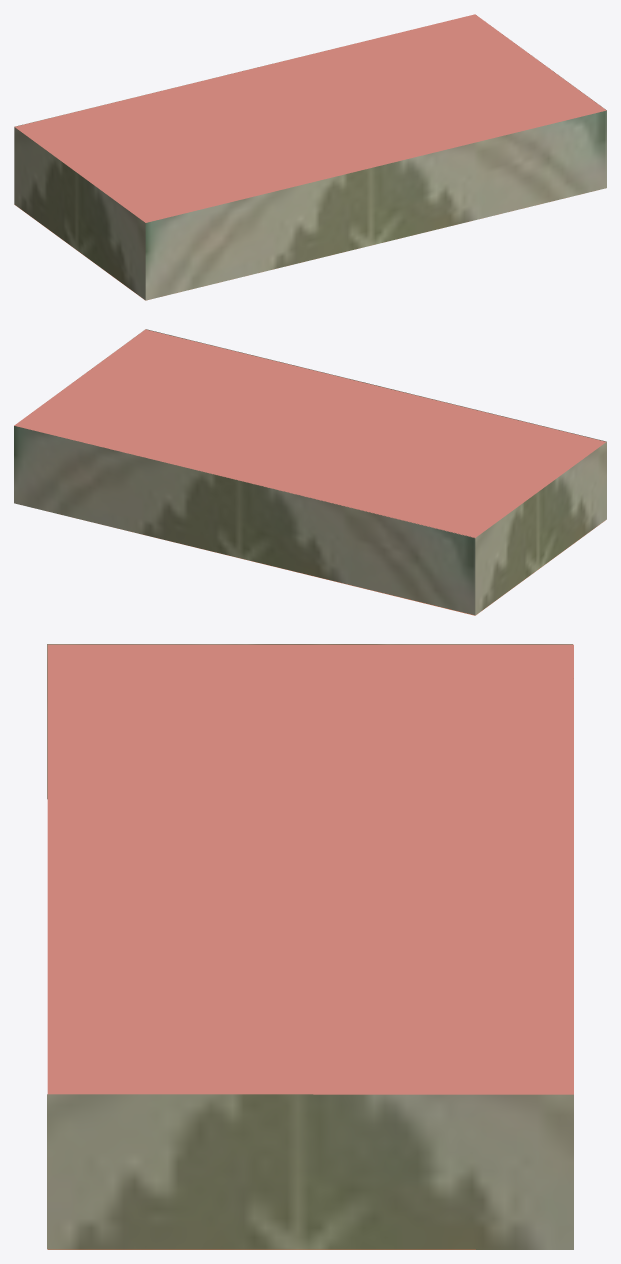
The model's file is room.fbx.
The picture shows the model from 3 angles, top to bottom: view 1: azimuth 30°, elevation 25°; view 2: azimuth 150°, elevation 25°; view 3: azimuth 270°, elevation 25°; orthographic projection. The views are drawn at different scales.
Parts seen in each view (by area): view 1: Plane.003, Plane; view 2: Plane.003, Plane; view 3: Plane.003, Plane.
Part boxes in pixels (left/top/right/bottom): Plane.003: left=14, top=14, right=606, bottom=222; Plane: left=14, top=63, right=606, bottom=300; Plane.003: left=14, top=329, right=605, bottom=537; Plane: left=14, top=329, right=606, bottom=615; Plane.003: left=47, top=644, right=573, bottom=1094; Plane: left=47, top=644, right=573, bottom=1249.
Size of the model in its own units: 12000 by 1934 by 5935.
8 materials, 4 textured.
